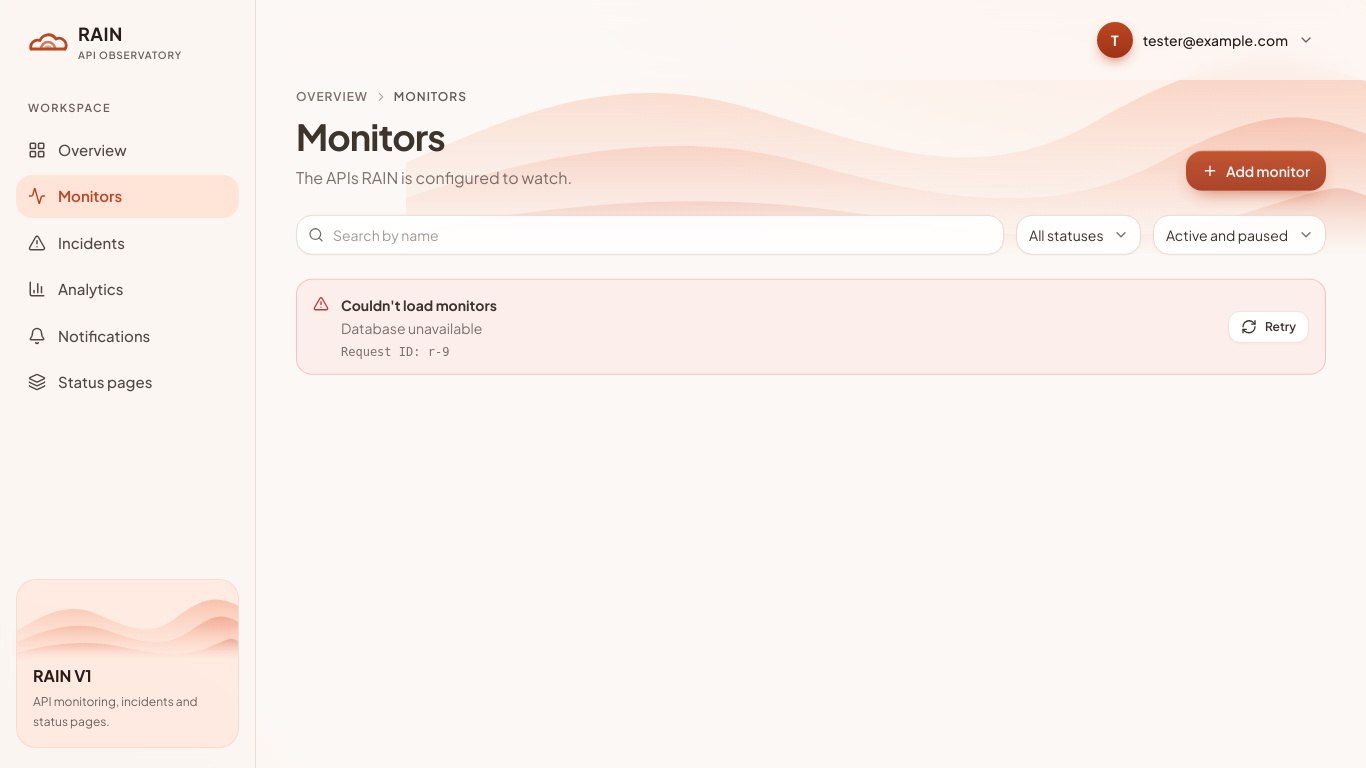
Test: monitor registry › shows the API error with a working retry
Expected: the text "Couldn't load monitors" is shown, left=341, top=293, right=497, bottom=316
Expected: the text "Database unavailable" is shown, left=341, top=316, right=497, bottom=339
Step 1. Click the button "Retry" → click(1269, 326), box left=1228, top=310, right=1309, bottom=342
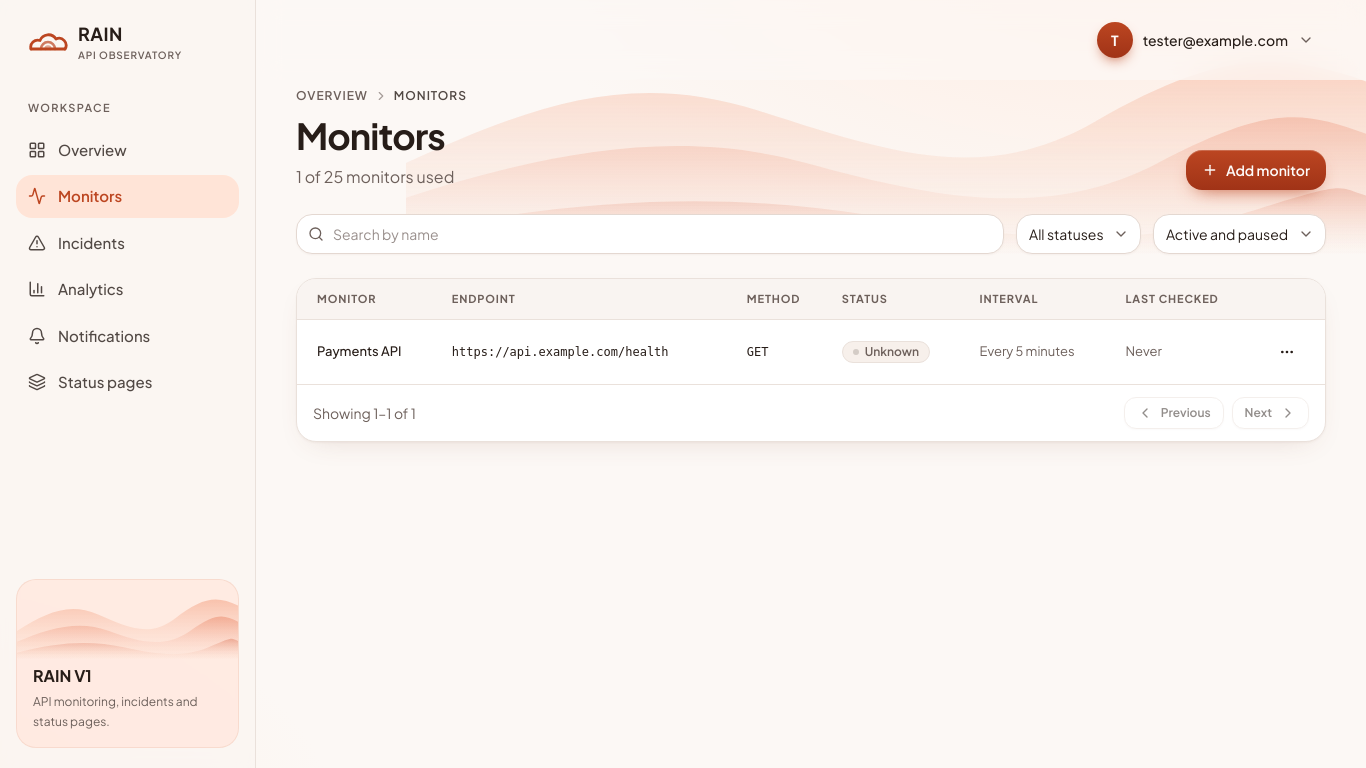
Expected: the link "Payments API" is shown, left=317, top=343, right=402, bottom=359
